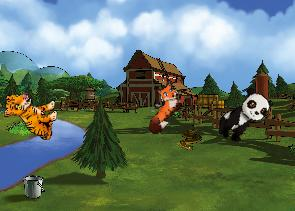fox: (131, 75, 191, 137)
panda: (212, 83, 275, 149)
tiger: (2, 91, 59, 140)
